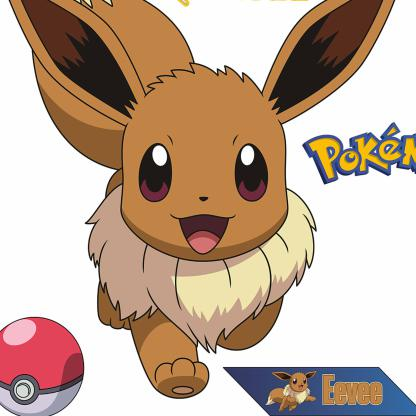Eevee: (1, 1, 416, 411), (266, 362, 320, 416)
